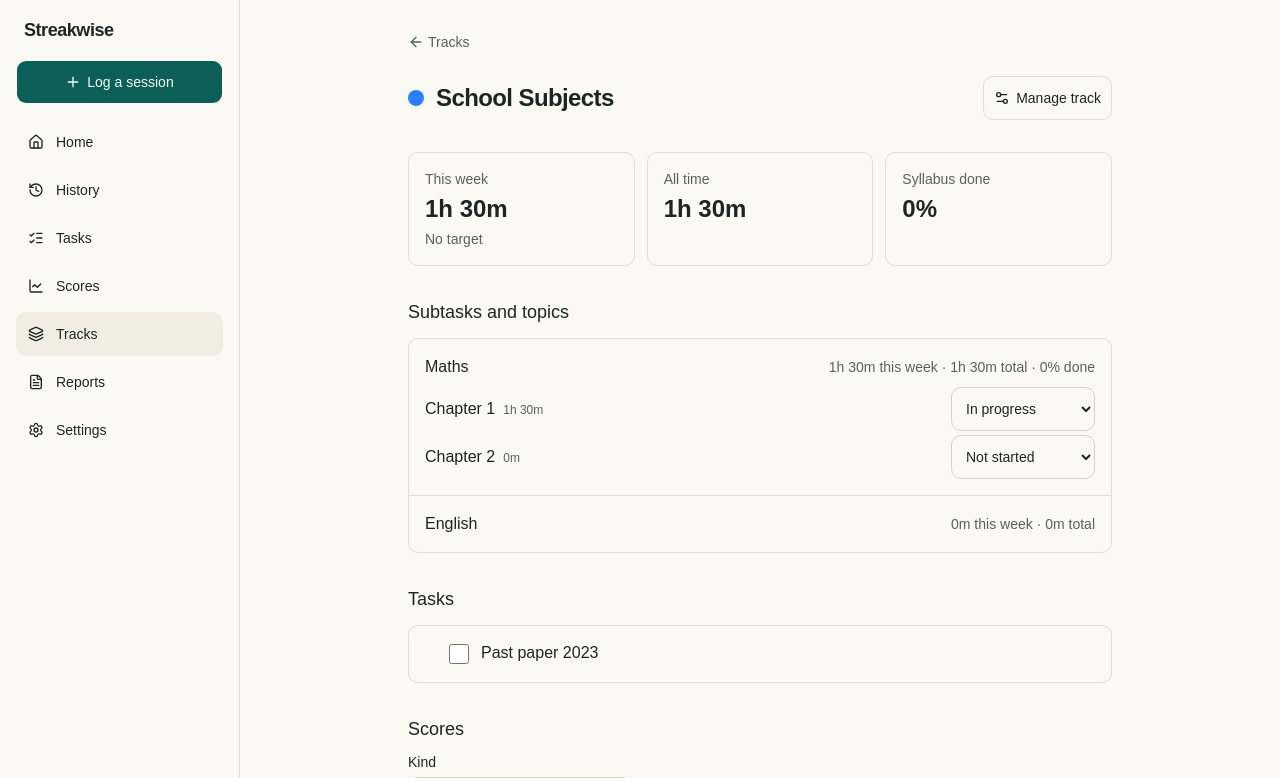
Test: Track page (TRACK-1, TOP-1, TOP-2) › offers Archive instead of delete when the track has history (TREE-3)
Click the button "Manage track" at (1048, 98), box [983, 76, 1112, 120]
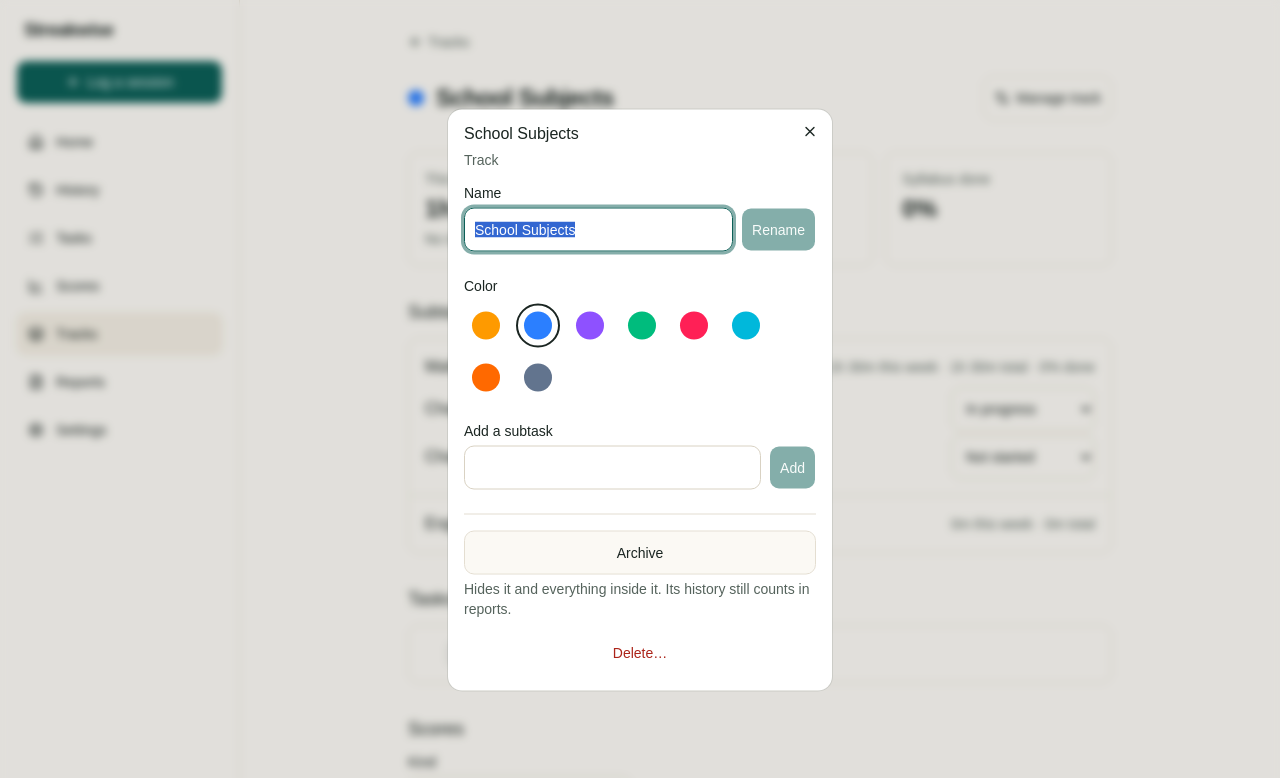
Click the button "Delete…" at (640, 652), box [464, 630, 816, 674]
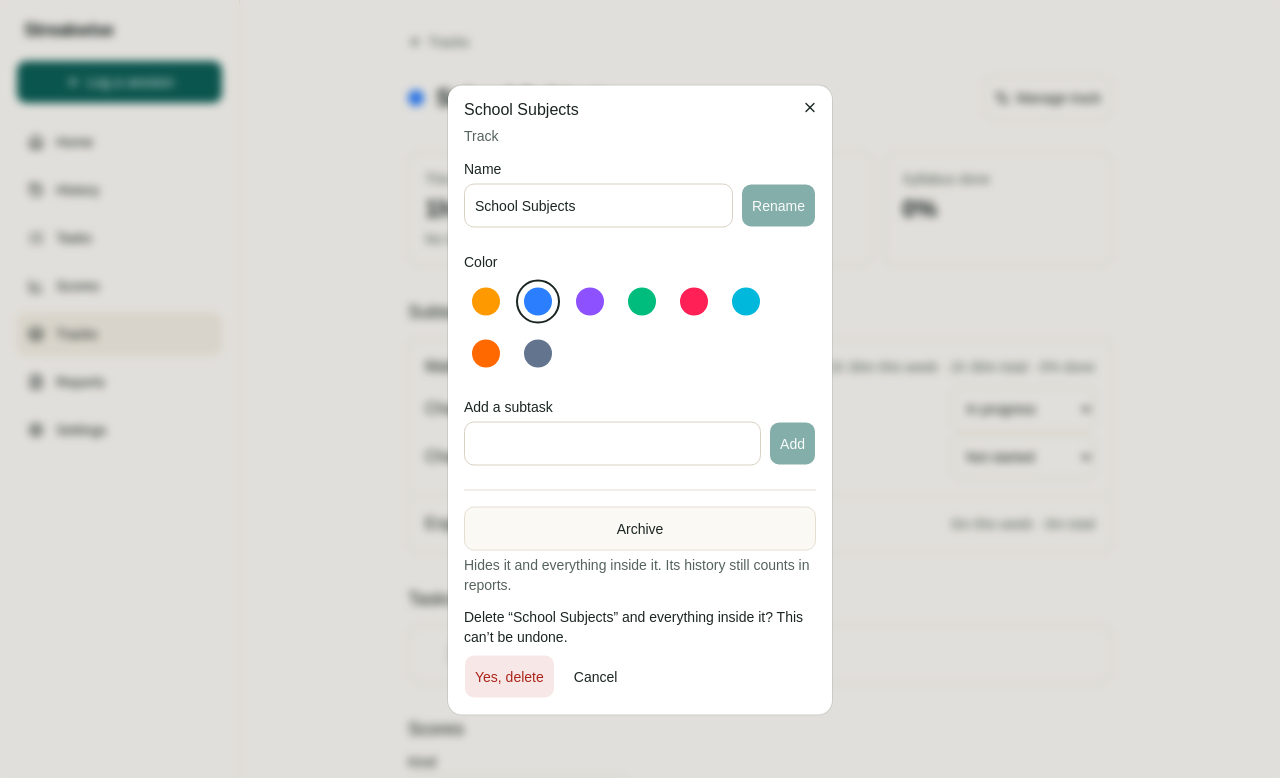
Click the button "Yes, delete" at (509, 676), box [464, 654, 555, 698]
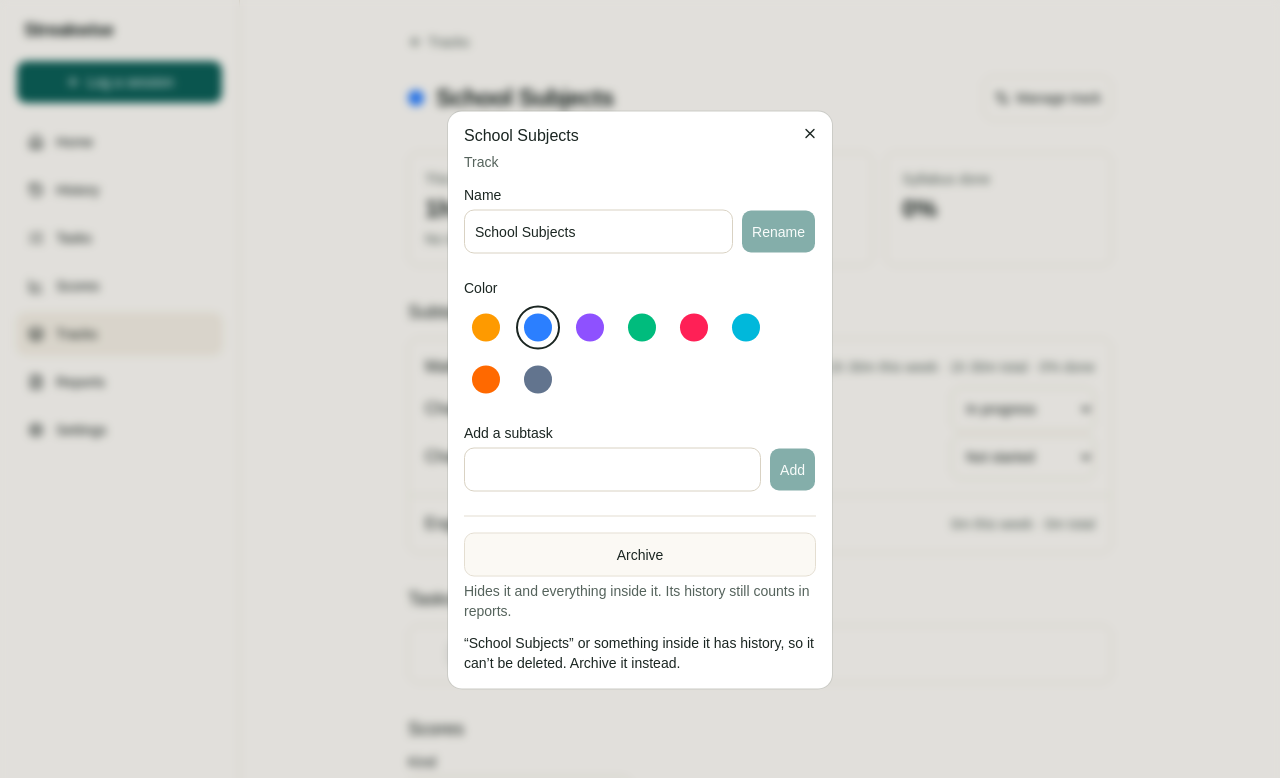
Check: the message shows "or something inside it has history, so it can’t be deleted.", box [464, 634, 814, 670]
